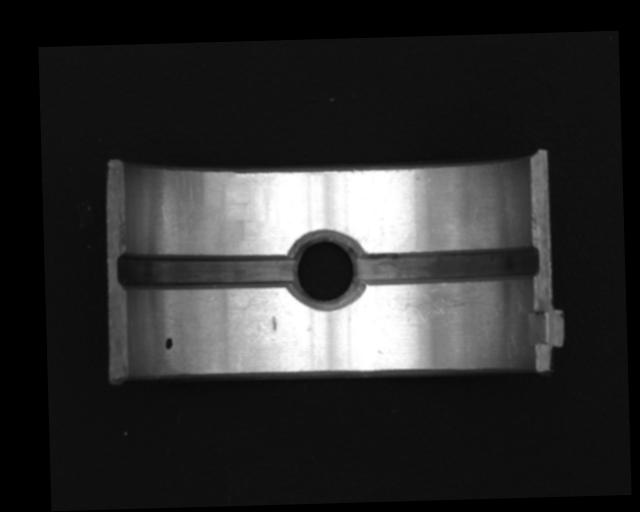blot: (164, 336, 173, 350)
bruise: (270, 315, 277, 331)
gap: (355, 245, 540, 287), (116, 252, 293, 291)
hole: (285, 228, 365, 312)
scratch: (392, 279, 505, 327)
